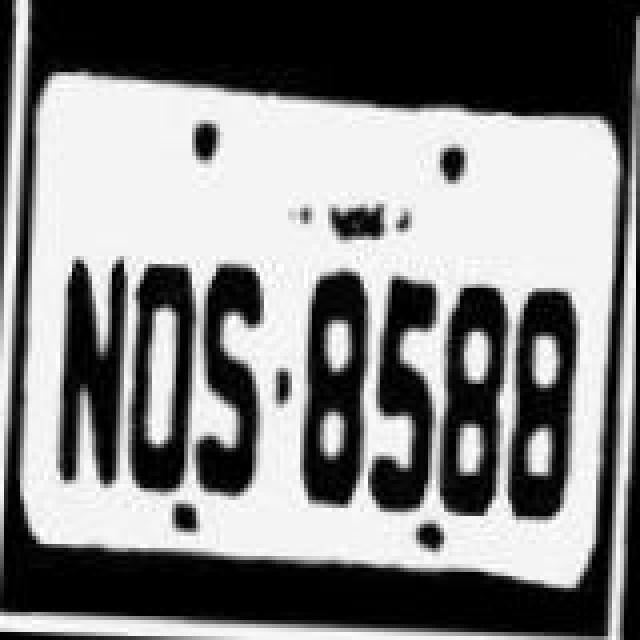5: (368, 266, 452, 514)
8: (290, 256, 378, 516), (504, 276, 588, 532), (432, 274, 516, 526)
N: (44, 246, 136, 506)
O: (122, 246, 202, 494)
S: (190, 260, 278, 508)
